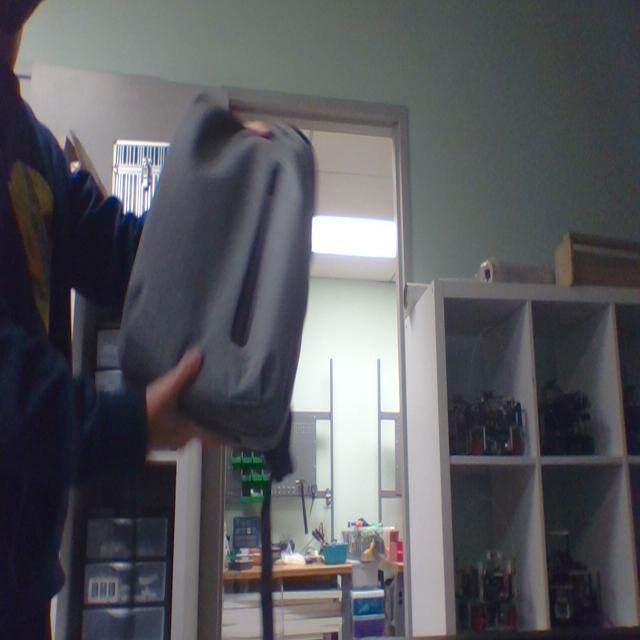Backpacks: (128, 114, 312, 448)
